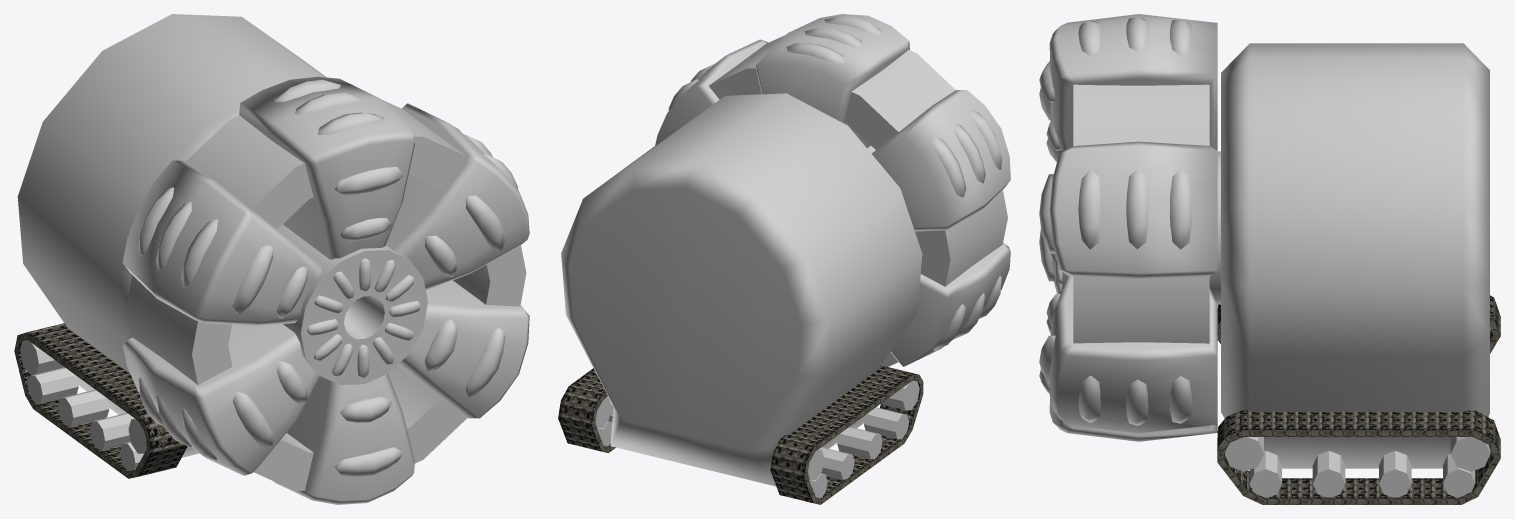
File: Drill.fbx
The picture shows the model from 3 angles, left to right: view 1: azimuth 30°, elevation 25°; view 2: azimuth 150°, elevation 25°; view 3: azimuth 270°, elevation 25°; orthographic projection. The views are drawn at different scales.
Parts seen in each view (by area): view 1: polySurface16, polySurface22, polySurface18; view 2: polySurface22, polySurface16, polySurface18; view 3: polySurface22, polySurface16, polySurface18.
Boxes of the visible parts, x1=… form: polySurface16: x1=122, y1=76, x2=529, y2=504; polySurface22: x1=17, y1=14, x2=326, y2=471; polySurface18: x1=14, y1=323, x2=187, y2=478; polySurface22: x1=561, y1=93, x2=922, y2=498; polySurface16: x1=655, y1=14, x2=1010, y2=366; polySurface18: x1=558, y1=366, x2=923, y2=504; polySurface22: x1=1221, y1=43, x2=1490, y2=497; polySurface16: x1=1039, y1=14, x2=1220, y2=441; polySurface18: x1=1217, y1=295, x2=1500, y2=504.
Size of the model in its own units: 3.11 by 3.35 by 3.41.
